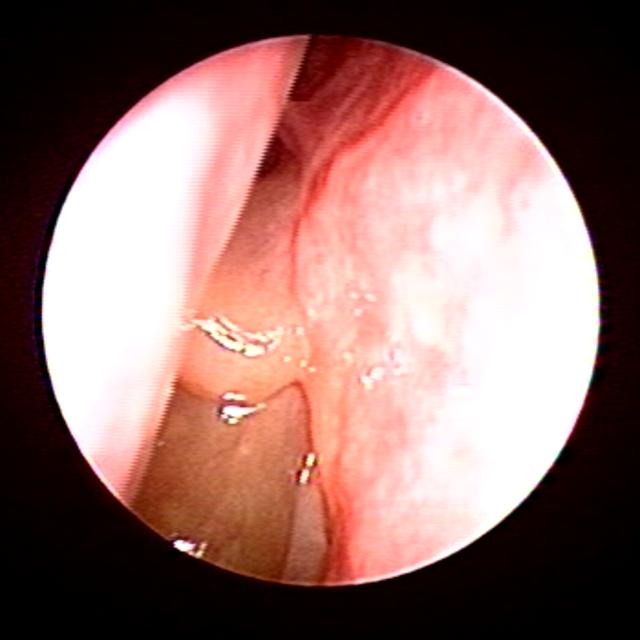POLYPS: (134, 378, 330, 583), (180, 169, 311, 426)
